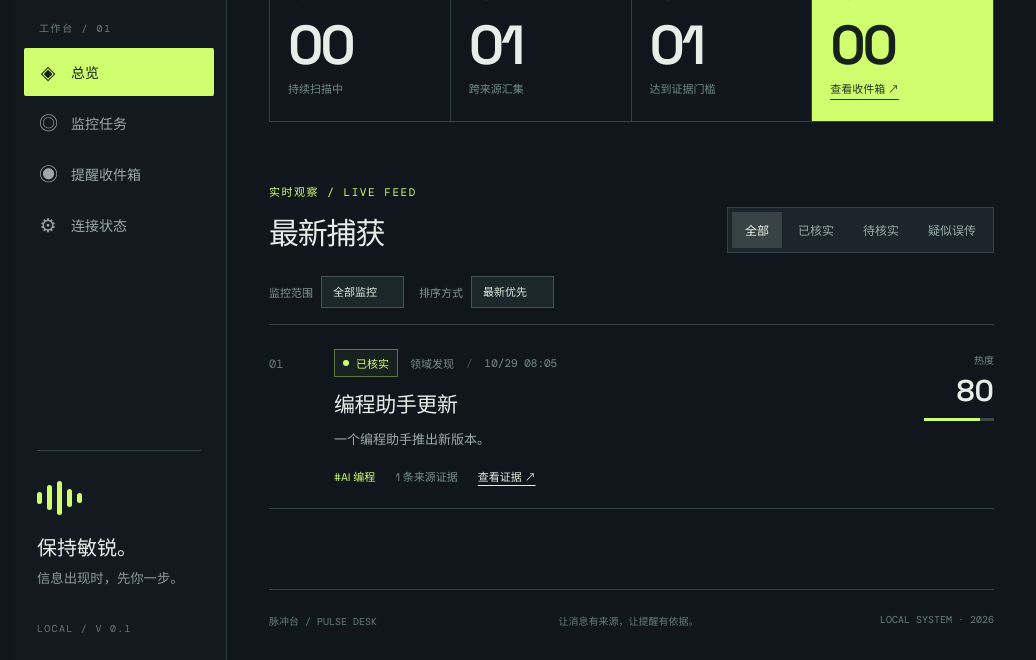
Test case: 事件能展开原始证据
(page scrolled)
Check: the heading "编程助手更新" is shown, box x1=334 y1=391 x2=458 y2=418
Step 1. Click the button "查看证据 ↗" → (507, 476), box x1=478 y1=468 x2=536 y2=484
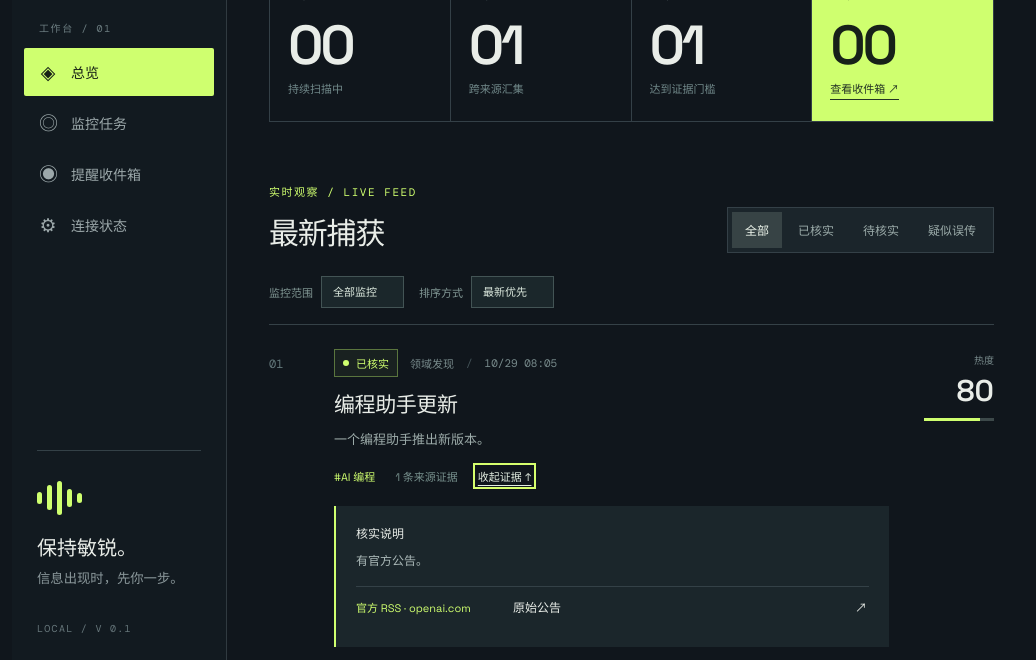
Check: the text "有官方公告。" is shown, box x1=356 y1=553 x2=428 y2=569
